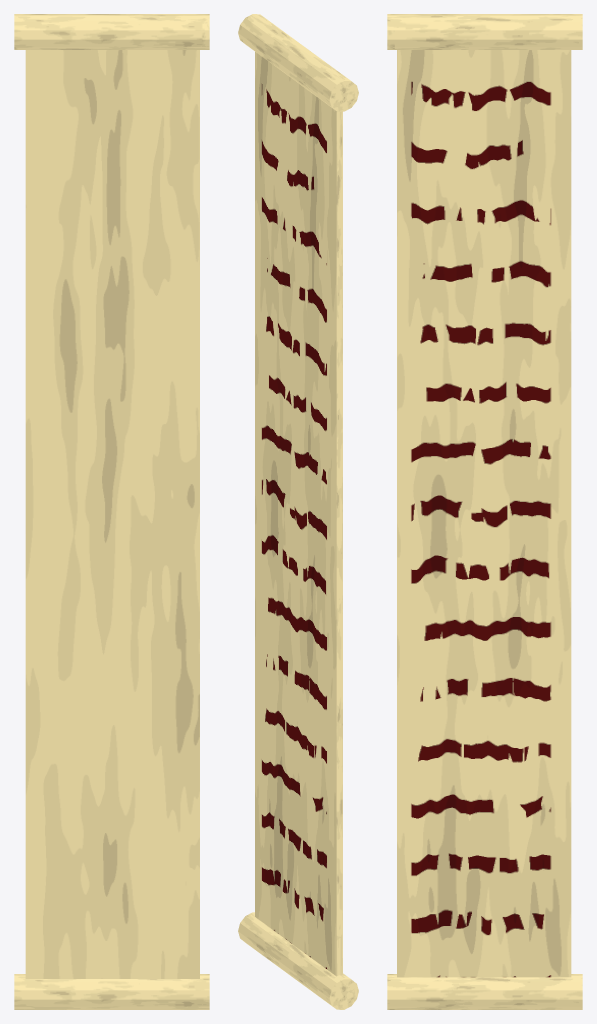
File: HangingScroll.glb
3 renders of one model, left to right at view 1: azimuth 90°, elevation 25°; view 2: azimuth 210°, elevation 25°; view 3: azimuth 270°, elevation 25°, orthographic. The views are drawn at different scales.
Parts seen in each view (by area): view 1: Cylinder.002; view 2: Cylinder.002; view 3: Cylinder.002.
Boxes of the visible parts, x1,y1,x2,y2 form: Cylinder.002: [14, 14, 209, 1009]; Cylinder.002: [238, 14, 358, 1009]; Cylinder.002: [387, 14, 582, 1009].
Bounding box in the file's own units: 0.416 × 12.57 × 2.24.
1 material, 1 textured.
